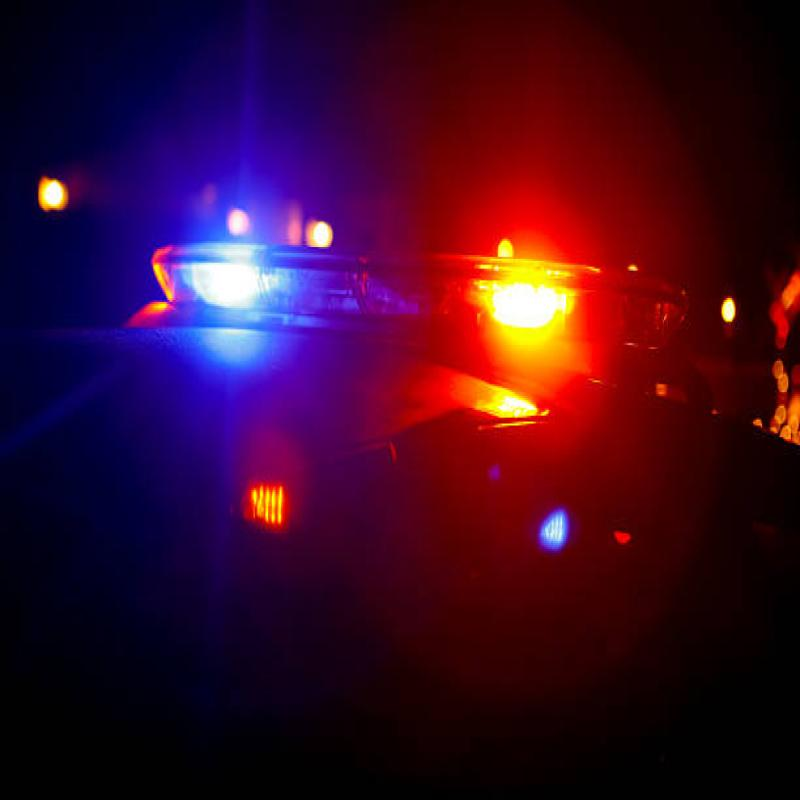AmbulanceSiren: (157, 218, 671, 383)
